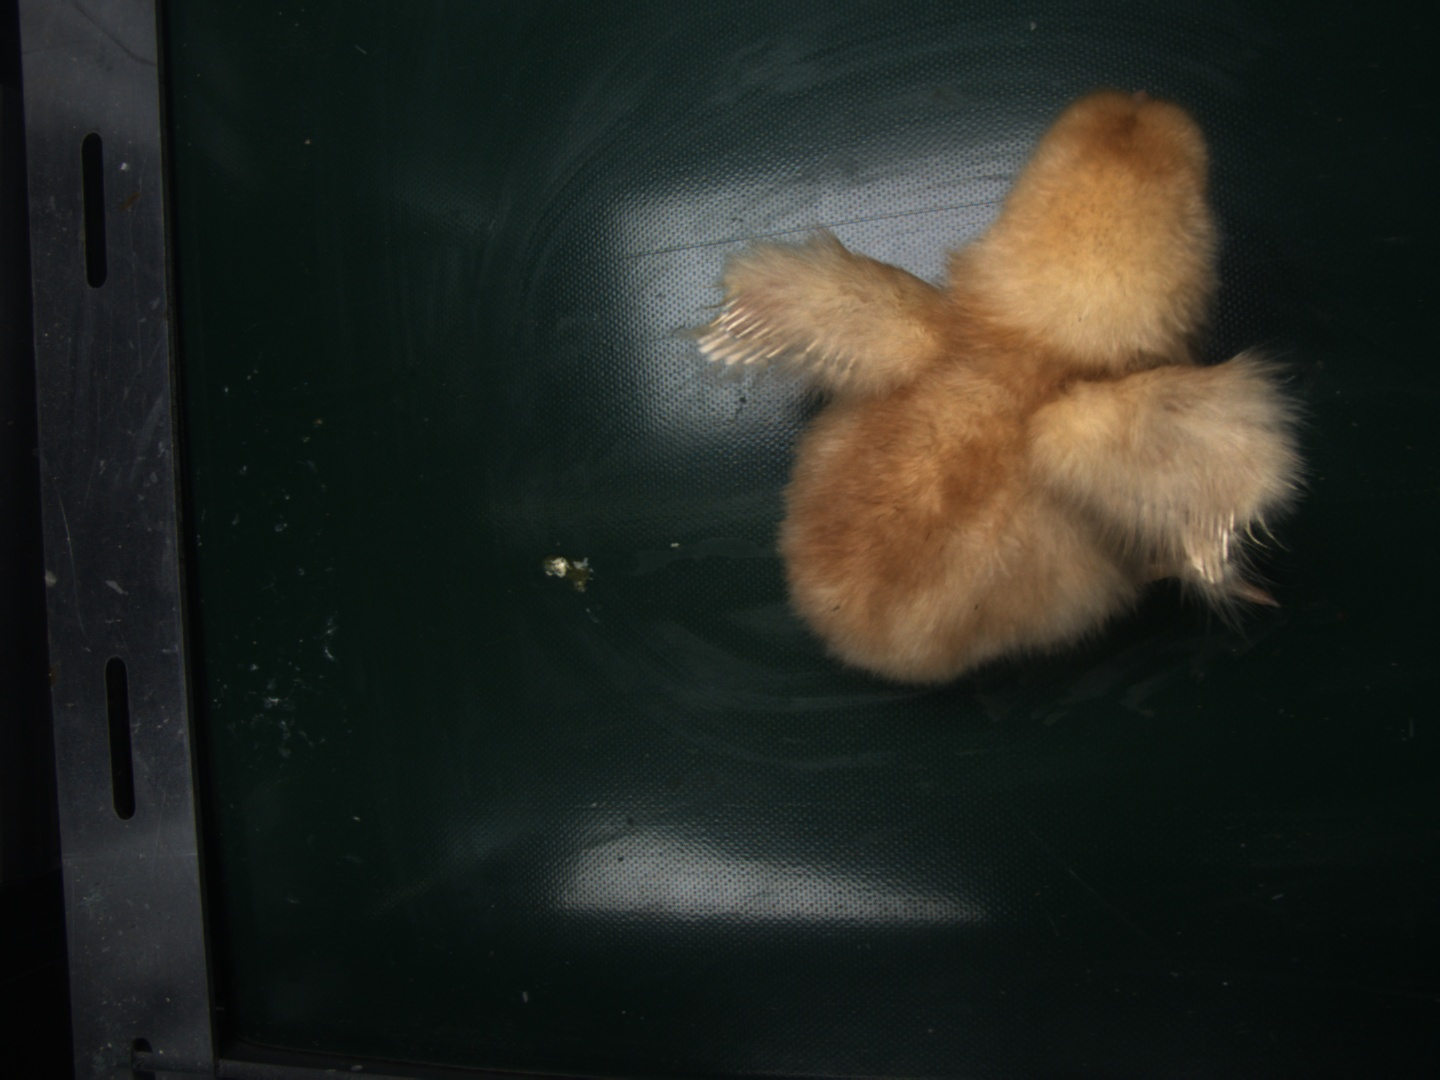female: (695, 296, 790, 364)
